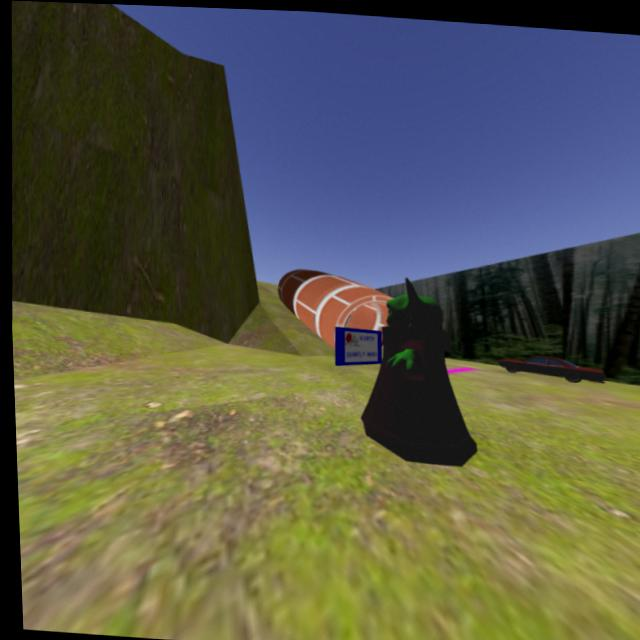yoda: (349, 268, 489, 478)
